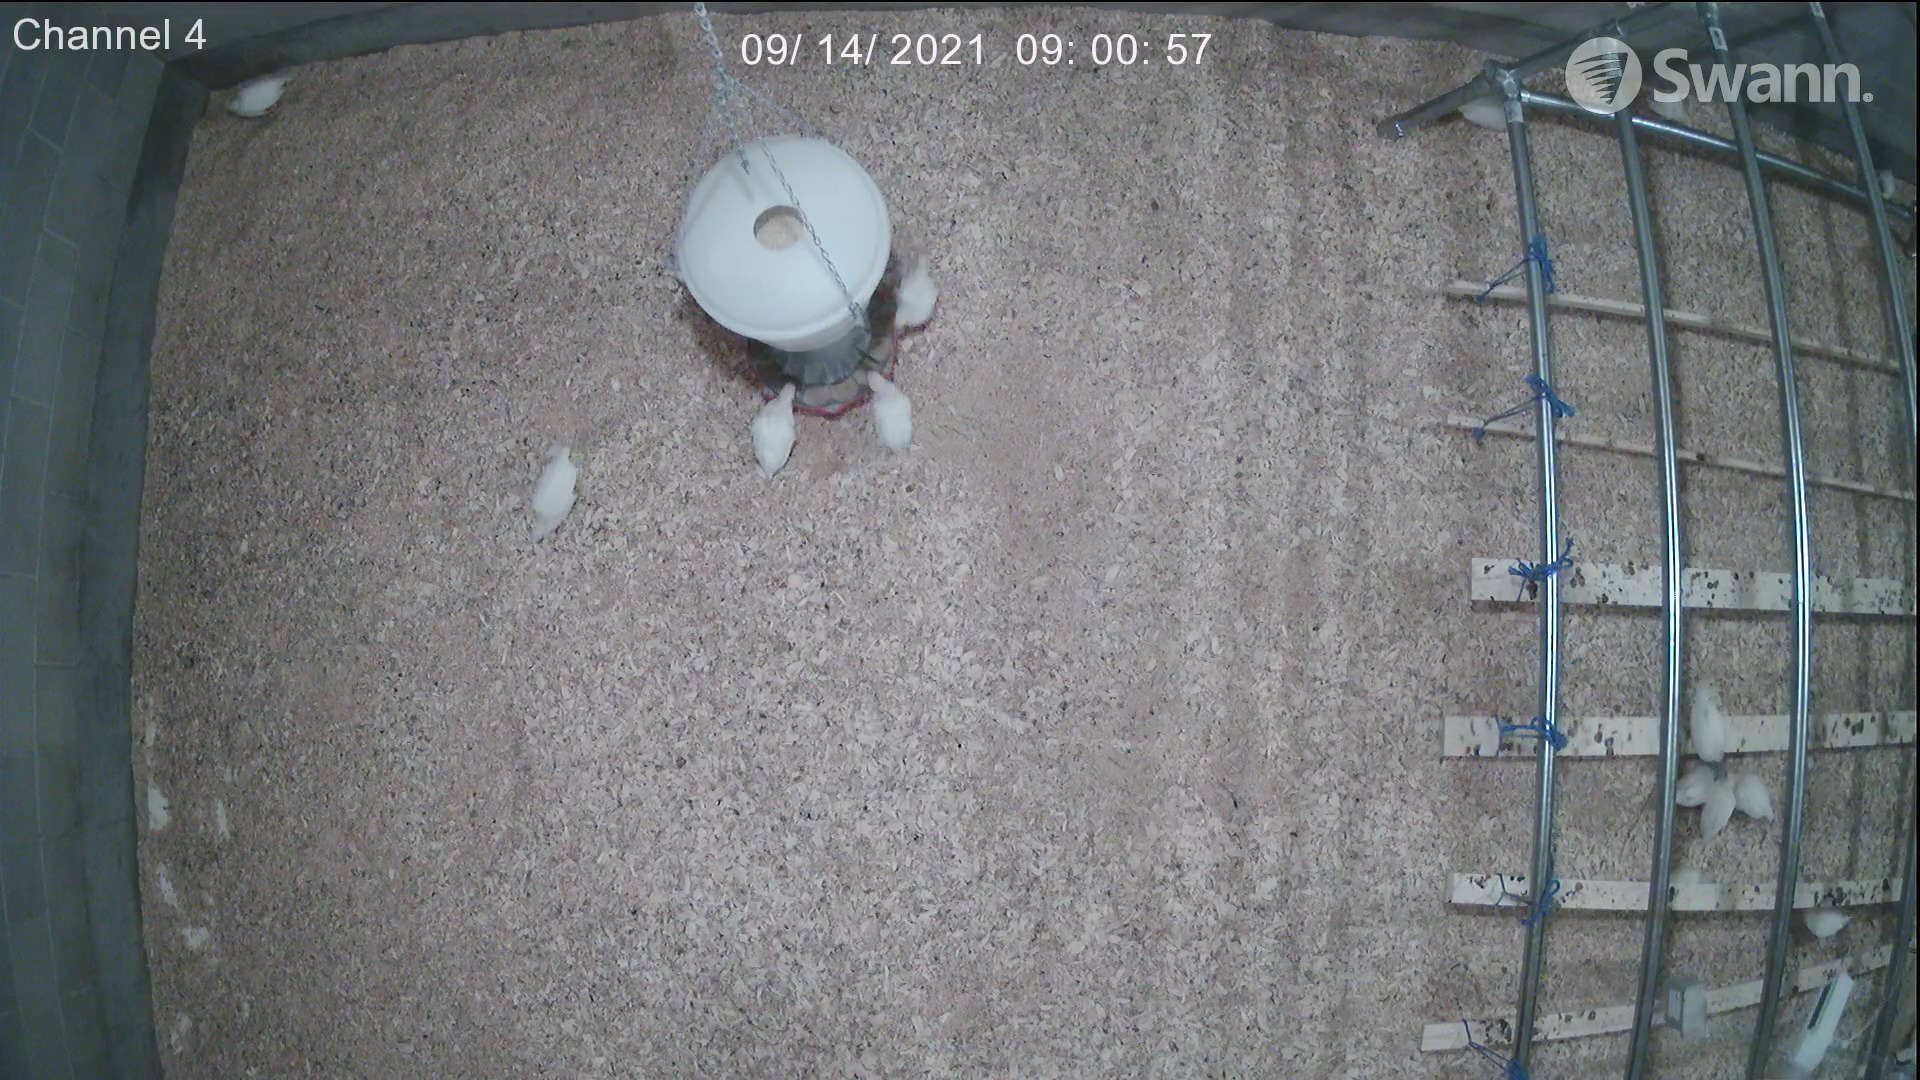Perching: (1684, 684, 1738, 769)
